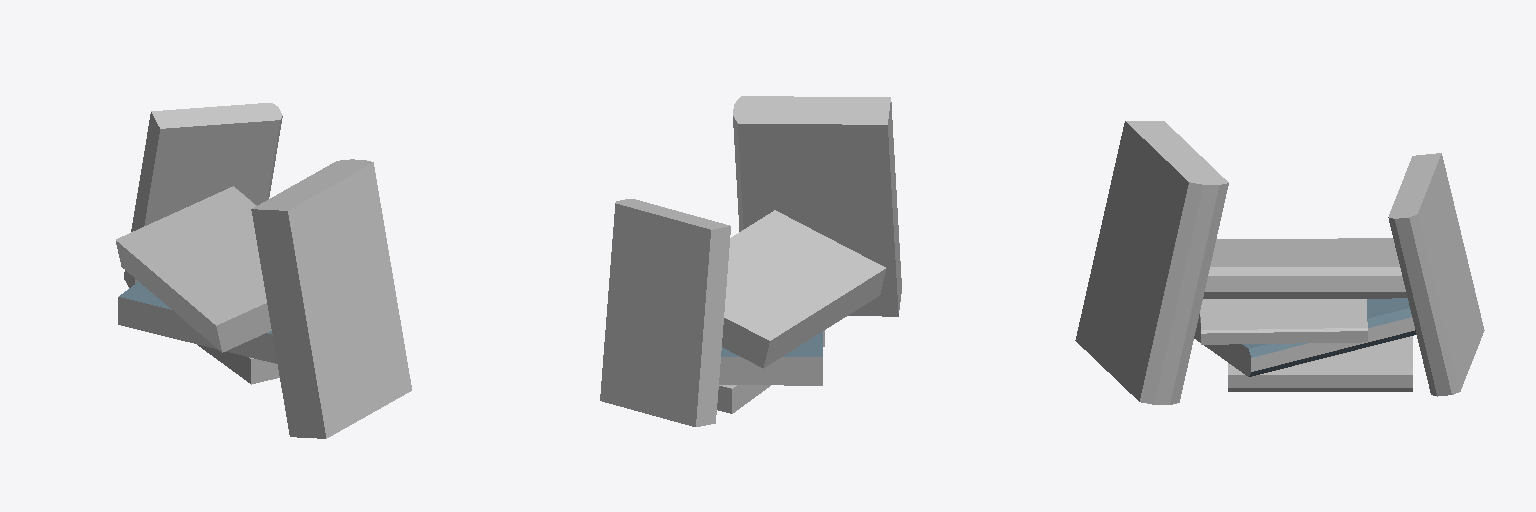
The model's file is raamat.obj.
3 views of the same model, side by side, from view 1: azimuth 30°, elevation 25°; view 2: azimuth 150°, elevation 25°; view 3: azimuth 270°, elevation 25° (orthographic).
Parts seen in each view (by area): view 1: group[number redacted], group[number redacted], group[number redacted], group[number redacted], group[number redacted]; view 2: group[number redacted], group[number redacted], group[number redacted], group[number redacted], group[number redacted]; view 3: group[number redacted], group[number redacted], group[number redacted], group[number redacted], group[number redacted], group[number redacted].
Boxes of the visible parts, box(x1,y1,x2,y2) form: group[number redacted]: box(251, 159, 411, 438); group[number redacted]: box(116, 186, 271, 352); group[number redacted]: box(124, 103, 282, 287); group[number redacted]: box(118, 281, 276, 363); group[number redacted]: box(197, 344, 279, 384); group[number redacted]: box(600, 199, 730, 426); group[number redacted]: box(733, 96, 901, 316); group[number redacted]: box(722, 210, 886, 368); group[number redacted]: box(719, 331, 822, 385); group[number redacted]: box(717, 330, 824, 413); group[number redacted]: box(1075, 121, 1228, 404); group[number redacted]: box(1388, 153, 1484, 396); group[number redacted]: box(1203, 238, 1407, 298); group[number redacted]: box(1200, 299, 1367, 344); group[number redacted]: box(1228, 336, 1412, 391); group[number redacted]: box(1194, 298, 1415, 376).
Size of the model in its own units: 0.48 by 0.5379 by 0.8832.